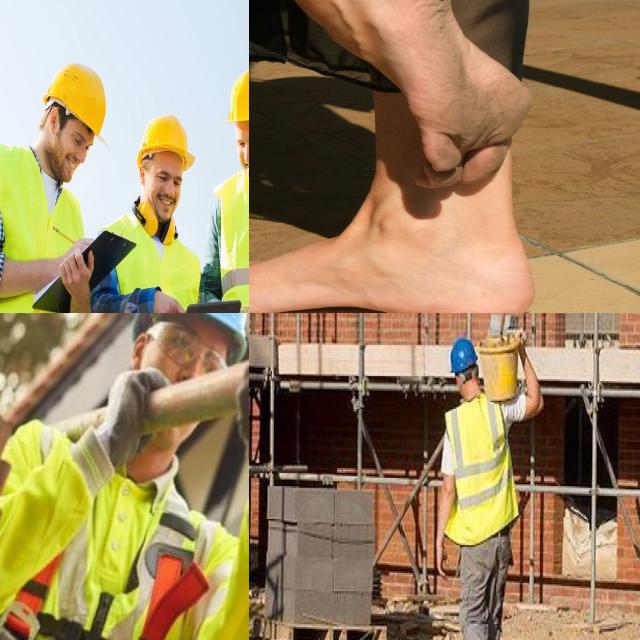Barefoots: (347, 0, 533, 189), (249, 234, 536, 313)
Harness: (0, 559, 115, 640), (138, 513, 208, 640)
face_nomask: (144, 150, 194, 227), (51, 105, 98, 186), (237, 122, 249, 183)
hand_noglove: (58, 244, 94, 296), (148, 284, 188, 313), (431, 538, 449, 590), (513, 325, 529, 360)
head_helmet: (43, 61, 109, 148), (137, 113, 196, 172), (224, 68, 249, 122), (448, 339, 478, 376)
person: (439, 328, 531, 640), (97, 119, 204, 313)
vest: (0, 137, 76, 313), (441, 394, 521, 550), (101, 209, 197, 313), (218, 159, 249, 313)
